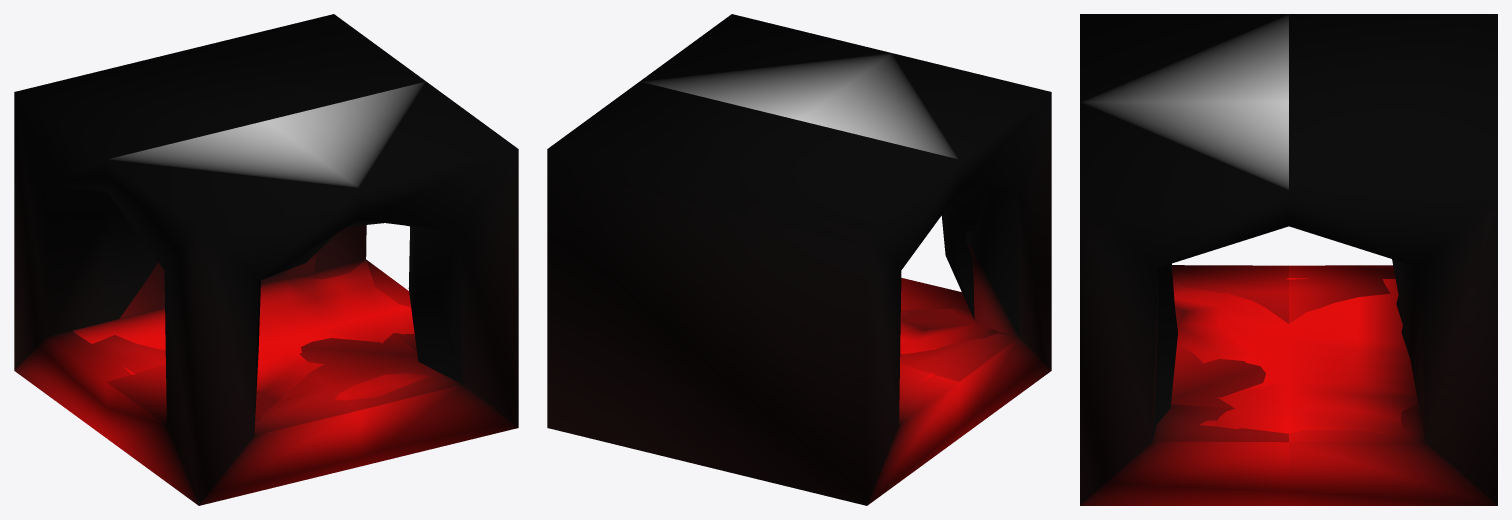
File: JD_Cave_A_Tunnel_4x4_3Way_01.fbx
3 views of the same model, side by side, from view 1: azimuth 30°, elevation 25°; view 2: azimuth 150°, elevation 25°; view 3: azimuth 270°, elevation 25° (orthographic). The views are drawn at different scales.
Parts seen in each view (by area): view 1: C_JD_Cave_A_Tunnel_4x4_3Way_01, JD_Cave_A_Tunnel_4x4_3Way_01; view 2: C_JD_Cave_A_Tunnel_4x4_3Way_01, JD_Cave_A_Tunnel_4x4_3Way_01; view 3: C_JD_Cave_A_Tunnel_4x4_3Way_01, JD_Cave_A_Tunnel_4x4_3Way_01.
Part boxes in pixels (box(x1,y1,x2,y2)): C_JD_Cave_A_Tunnel_4x4_3Way_01: box(14, 14, 518, 505); JD_Cave_A_Tunnel_4x4_3Way_01: box(48, 220, 462, 434); C_JD_Cave_A_Tunnel_4x4_3Way_01: box(547, 14, 1051, 505); JD_Cave_A_Tunnel_4x4_3Way_01: box(900, 189, 1018, 381); C_JD_Cave_A_Tunnel_4x4_3Way_01: box(1080, 14, 1497, 505); JD_Cave_A_Tunnel_4x4_3Way_01: box(1152, 263, 1424, 441).
Bounding box in the file's own units: 6 × 5 × 6.
